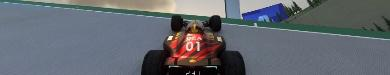Car: (140, 14, 246, 74)
curve: (0, 1, 389, 73)
